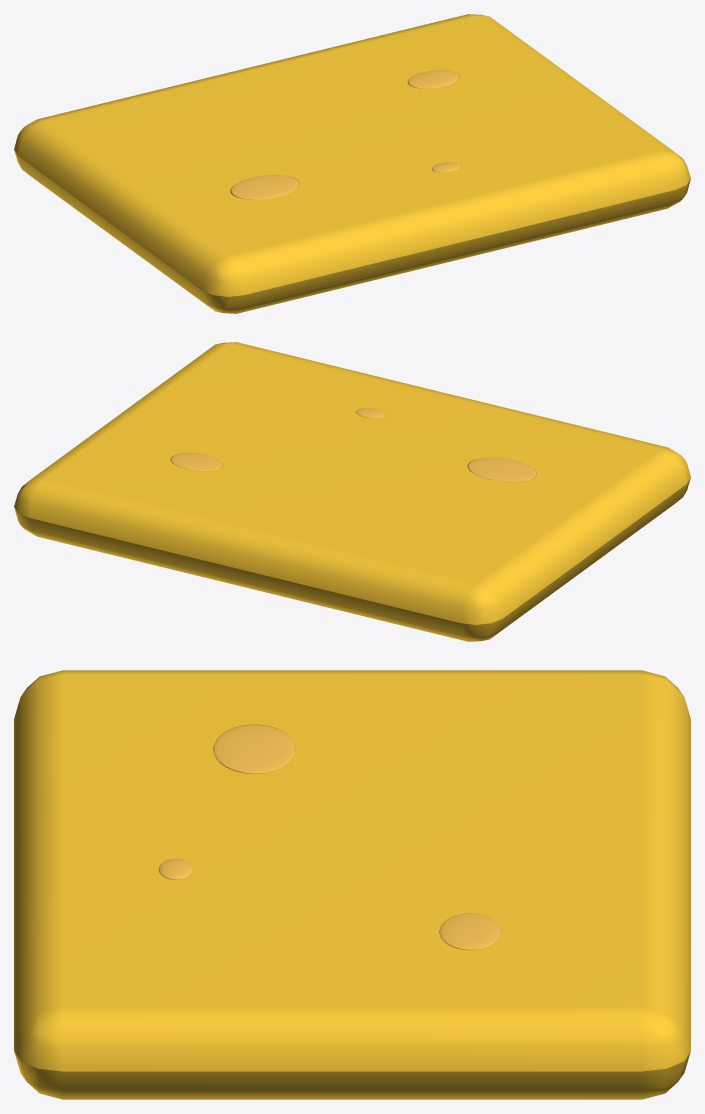
File: cheese.glb
3 views of the same model, one above another, from view 1: azimuth 30°, elevation 25°; view 2: azimuth 150°, elevation 25°; view 3: azimuth 270°, elevation 25° (orthographic). The views are drawn at different scales.
Visible parts, largest first — view 1: Soft cheddar, Cheese dimple, Cheese dimple.001; view 2: Soft cheddar, Cheese dimple, Cheese dimple.001; view 3: Soft cheddar, Cheese dimple, Cheese dimple.001.
Boxes of the visible parts, left/top/right/bottom form: Soft cheddar: left=14, top=14, right=690, bottom=313; Cheese dimple: left=230, top=175, right=299, bottom=199; Cheese dimple.001: left=407, top=70, right=459, bottom=88; Soft cheddar: left=14, top=342, right=690, bottom=641; Cheese dimple: left=467, top=457, right=536, bottom=482; Cheese dimple.001: left=170, top=452, right=222, bottom=471; Soft cheddar: left=14, top=670, right=690, bottom=1099; Cheese dimple: left=213, top=724, right=295, bottom=774; Cheese dimple.001: left=439, top=913, right=500, bottom=950.
Size of the model in its own units: 0.9 by 0.103 by 0.69.
